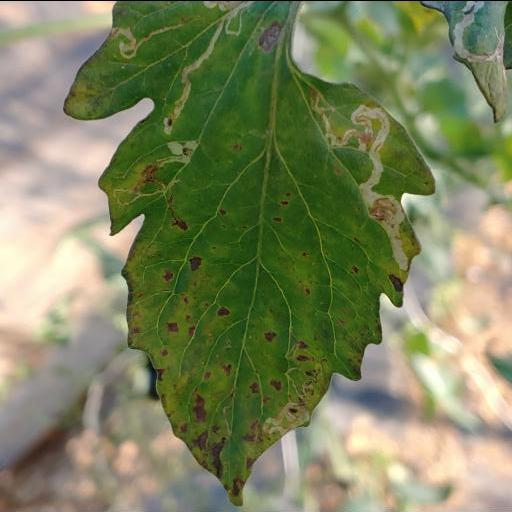disease_tomato: (62, 0, 438, 508)
